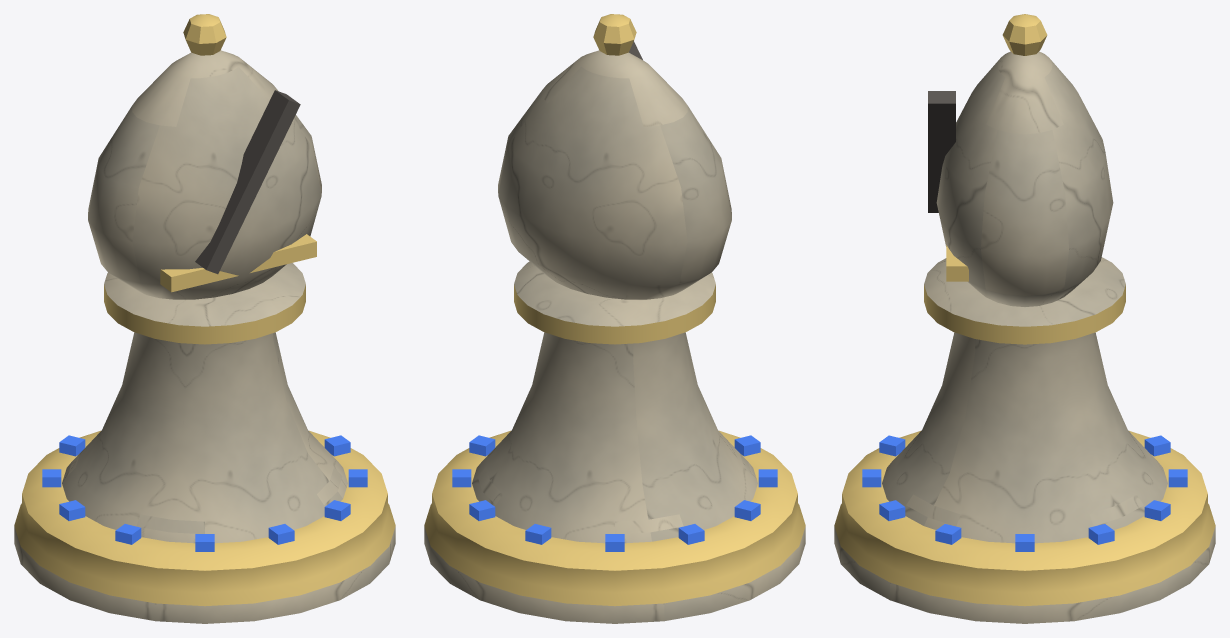
Rendered from bishop_light.glb.
3 renders of one model, left to right at view 1: azimuth 30°, elevation 25°; view 2: azimuth 150°, elevation 25°; view 3: azimuth 270°, elevation 25°, orthographic.
Visible parts, largest first — view 1: Piece_Bishop_Light_Mesh; view 2: Piece_Bishop_Light_Mesh; view 3: Piece_Bishop_Light_Mesh.
Boxes of the visible parts, x1,y1,x2,y2 form: Piece_Bishop_Light_Mesh: (14, 14, 395, 623); Piece_Bishop_Light_Mesh: (424, 14, 805, 623); Piece_Bishop_Light_Mesh: (834, 14, 1215, 623).
Size of the model in its own units: 0.68 by 1.04 by 0.68.
Materials: 4 (1 with a texture image).
